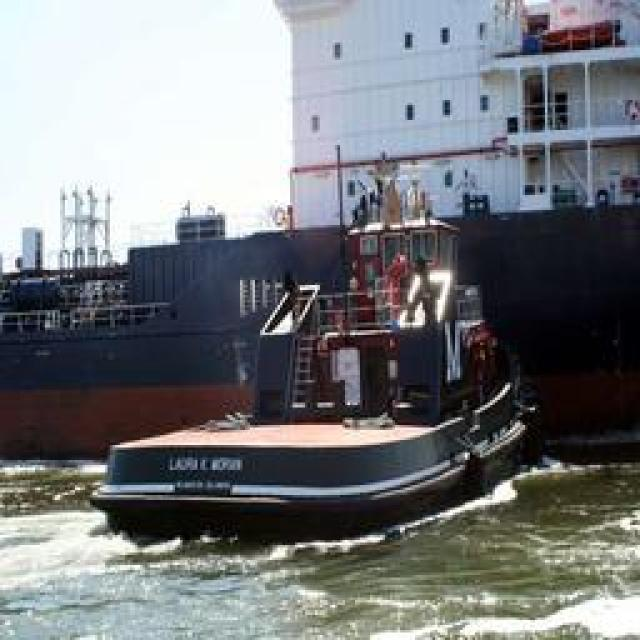ship2: (90, 162, 528, 551)
